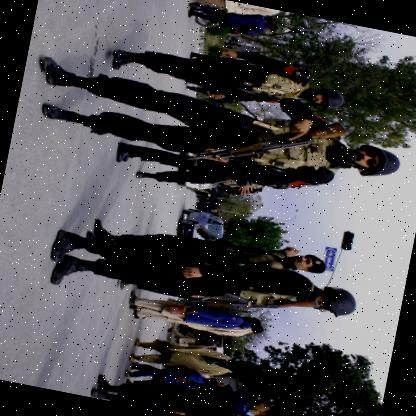rifle: (177, 88, 347, 197), (173, 267, 325, 337)
